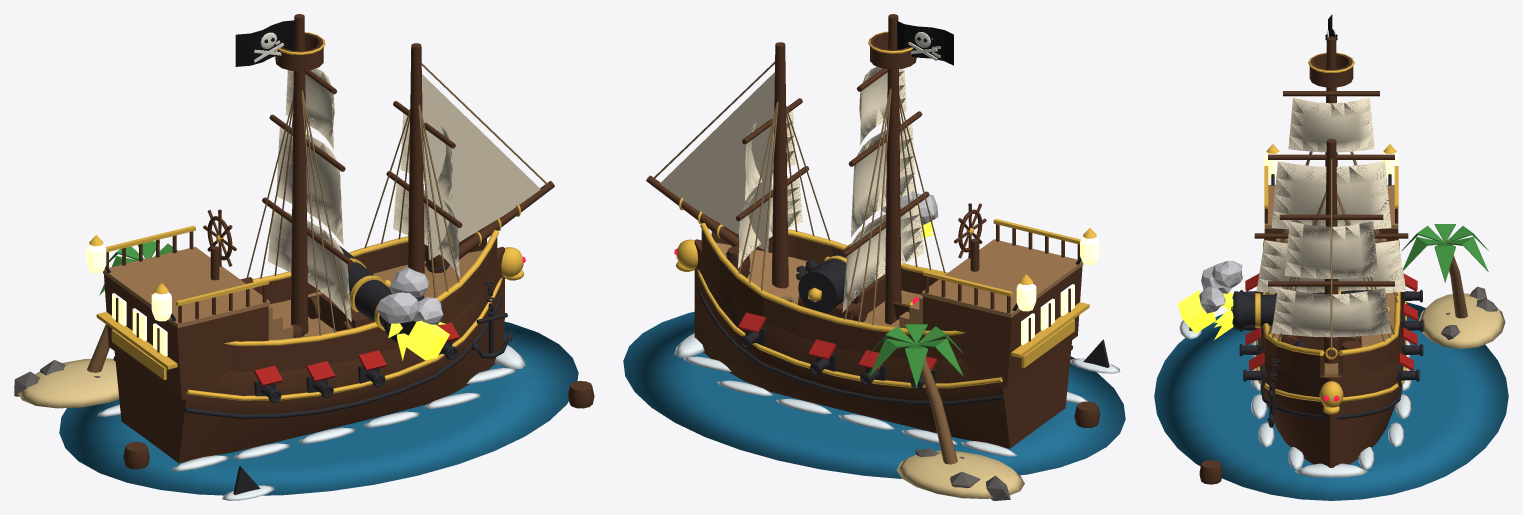
Rendered from CorsairCannonMine_Roblox.fbx.
The picture shows the model from 3 angles, left to right: view 1: azimuth 30°, elevation 25°; view 2: azimuth 150°, elevation 25°; view 3: azimuth 270°, elevation 25°; orthographic projection. The views are drawn at different scales.
Visible parts, largest first — view 1: ShipTimber, SeaWater, Sailcloth, DeckPlanks, Gold, CannonIron, Rope, SeaFoam, IsletSand, CannonSmoke, LanternGlow, FlagBlack (+4 smaller); view 2: ShipTimber, SeaWater, Sailcloth, DeckPlanks, Gold, CannonIron, Rope, IsletSand, SeaFoam, PalmLeaf, LanternGlow, FlagBlack (+4 smaller); view 3: SeaWater, Sailcloth, ShipTimber, CannonIron, Gold, SeaFoam, IsletSand, PalmLeaf, CannonSmoke, DeckPlanks, Rope, SailRed (+5 smaller).
Part boxes in pixels (x1,y1,x2,y2): ShipTimber: [104, 14, 594, 469]; SeaWater: [59, 322, 578, 495]; Sailcloth: [268, 68, 540, 322]; DeckPlanks: [103, 246, 482, 339]; Gold: [89, 32, 524, 400]; CannonIron: [105, 245, 513, 494]; Rope: [246, 63, 547, 335]; SeaFoam: [97, 345, 525, 500]; IsletSand: [18, 358, 119, 408]; CannonSmoke: [377, 267, 443, 324]; LanternGlow: [86, 244, 171, 356]; FlagBlack: [235, 20, 415, 334]; ShipTimber: [646, 14, 1100, 448]; SeaWater: [623, 311, 1125, 478]; Sailcloth: [659, 66, 923, 312]; DeckPlanks: [716, 239, 1083, 328]; Gold: [676, 31, 1096, 388]; CannonIron: [696, 247, 1109, 405]; Rope: [653, 61, 945, 325]; IsletSand: [897, 450, 1024, 498]; SeaFoam: [674, 333, 1120, 456]; PalmLeaf: [869, 324, 963, 388]; LanternGlow: [1016, 237, 1099, 345]; FlagBlack: [897, 21, 953, 65]; SeaWater: [1154, 302, 1508, 500]; Sailcloth: [1256, 97, 1406, 337]; ShipTimber: [1199, 36, 1408, 484]; CannonIron: [1189, 174, 1423, 427]; Gold: [1255, 52, 1406, 414]; SeaFoam: [1179, 320, 1411, 477]; IsletSand: [1419, 293, 1505, 348]; PalmLeaf: [1402, 224, 1488, 282]; CannonSmoke: [1199, 261, 1242, 313]; DeckPlanks: [1264, 185, 1398, 377]; Rope: [1265, 151, 1398, 350]; SailRed: [1245, 273, 1417, 370].
Size of the model in its own units: 1480 by 1152 by 1060.
